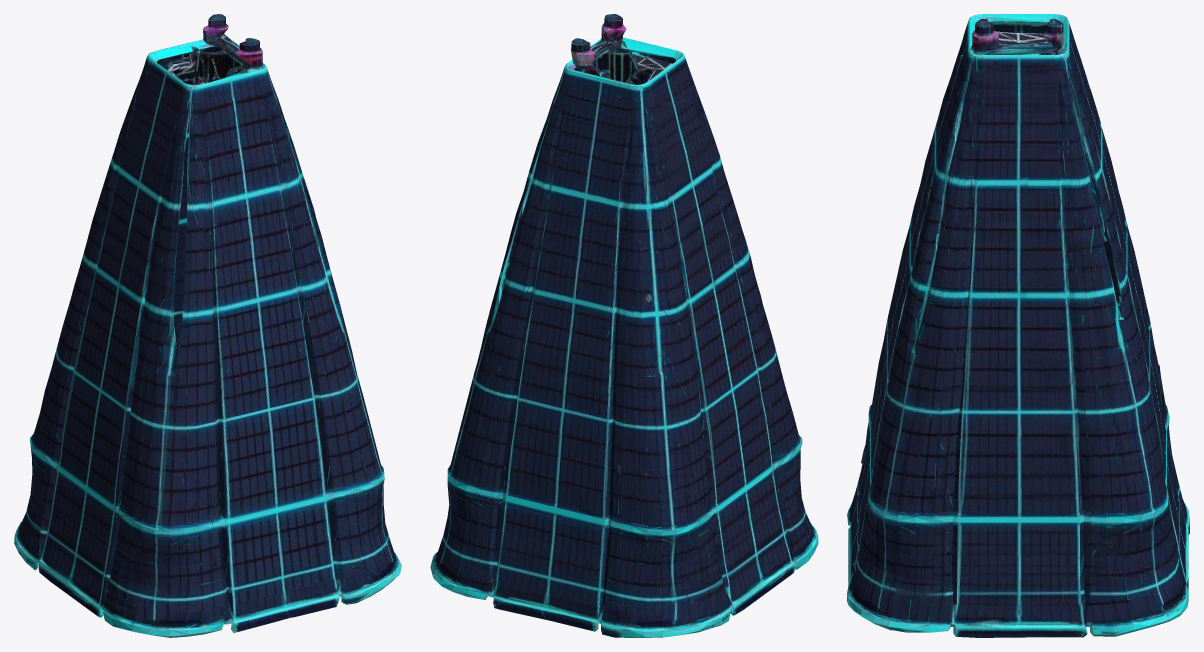
Rendered from neon-tower.glb.
3 renders of one model, left to right at view 1: azimuth 30°, elevation 25°; view 2: azimuth 150°, elevation 25°; view 3: azimuth 270°, elevation 25°, orthographic. The views are drawn at different scales.
Bounding box in the file's own units: 0.5585 × 1 × 0.5565.
1 material, 1 textured.
